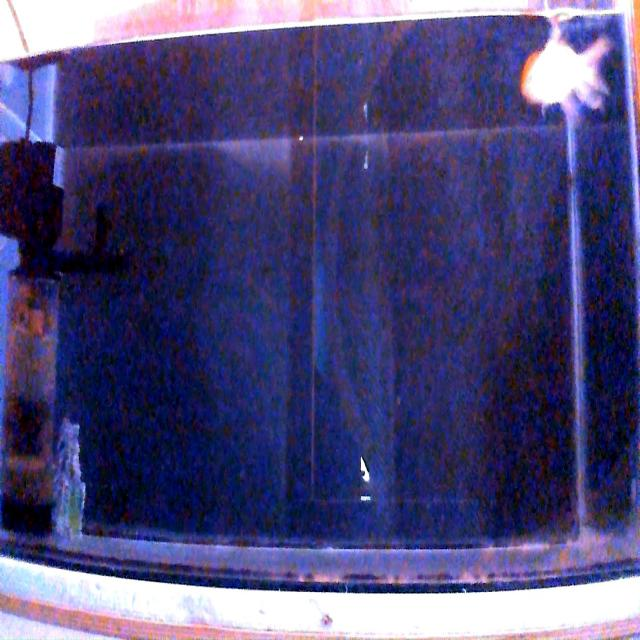fish: (519, 24, 614, 114)
